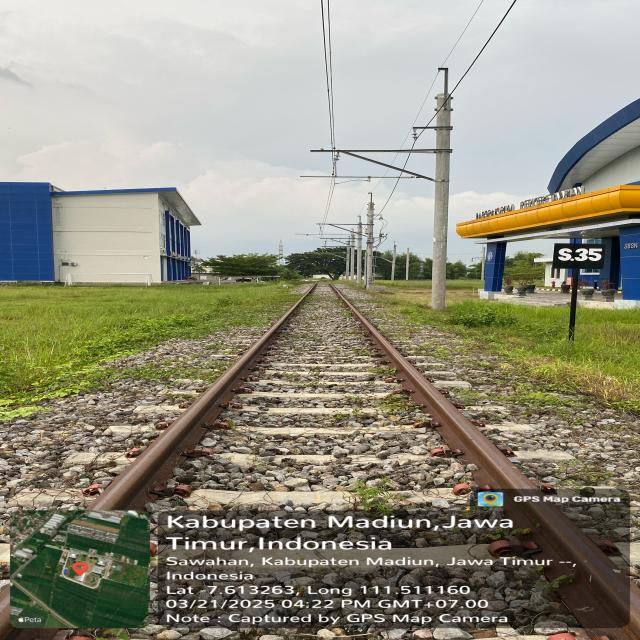rail-detection: (330, 285, 633, 624), (90, 296, 304, 510)
